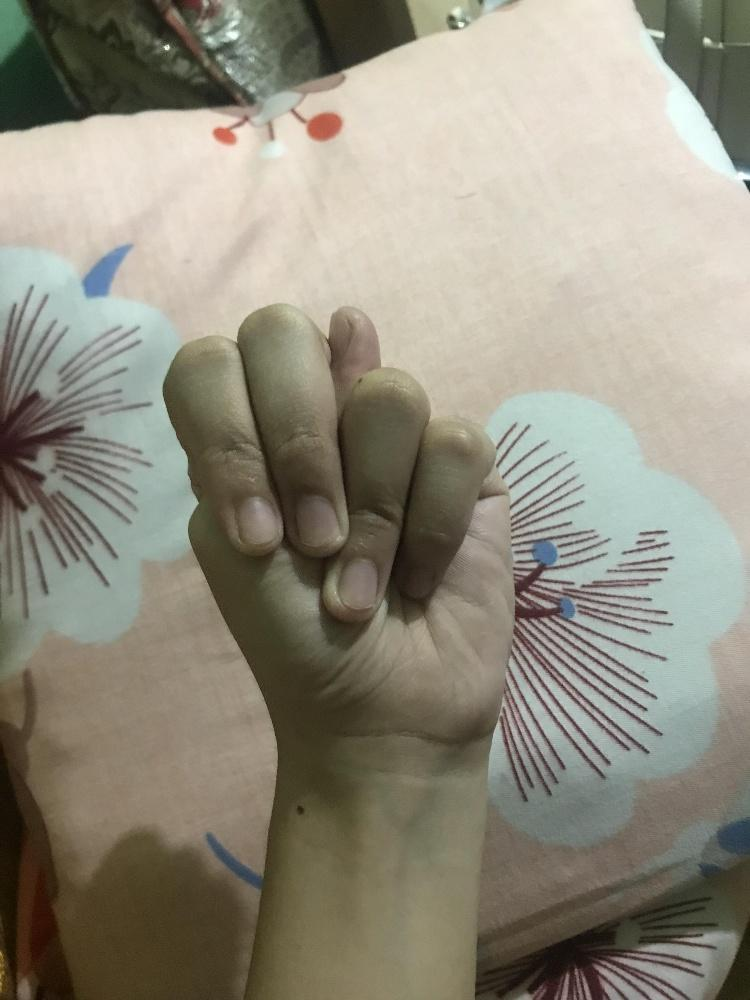n: (159, 293, 518, 738)
